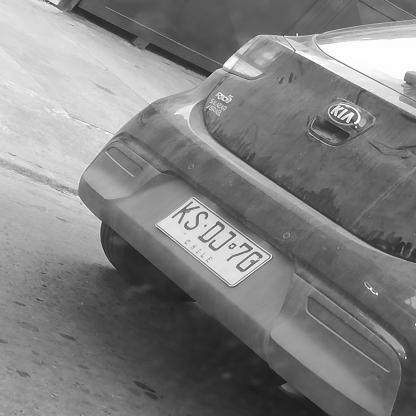Patente: (151, 193, 275, 289)
